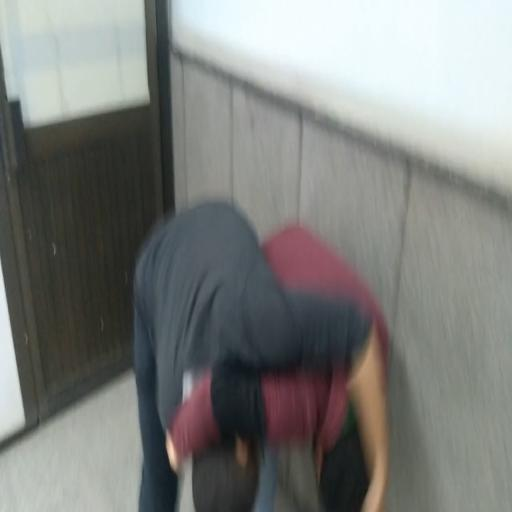violencia: (112, 193, 396, 512)
